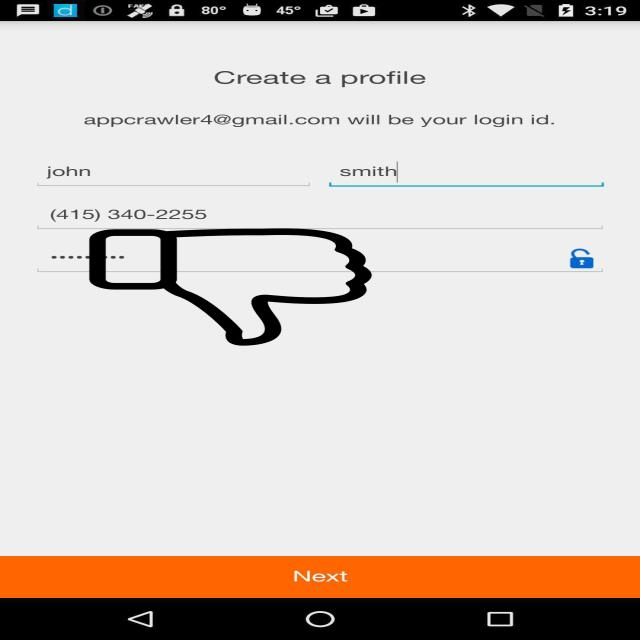obstruction: (85, 228, 376, 346)
